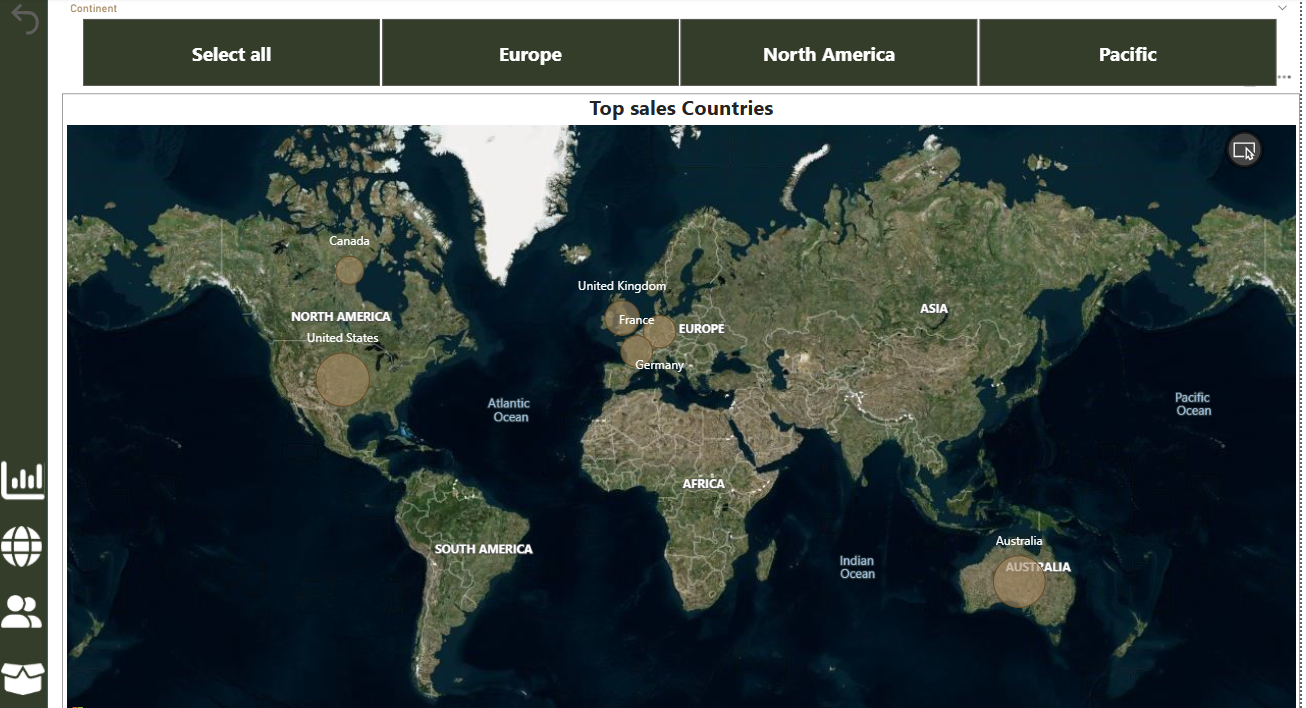

What the dashboard file says about the page in this screenshot:
{"tool":"powerbi","page":{"name":"Map ","canvas":[1280,720],"ordinal":1},"visuals":[{"type":"shape","box":[0,0,50,720],"z":0},{"type":"map","title":"Top sales Countries","fields":{"Category":["Territory Lookup.Country"],"Size":["Dax Measures.Total Revenue"]},"box":[64.3,94.3,1215.7,627.1],"z":1000},{"type":"slicer","fields":{"Values":["Territory Lookup.Continent"]},"box":[64.3,0,1215.7,94.3],"z":2000},{"type":"actionButton","box":[0,448.9,81.4,50.9],"z":3000},{"type":"actionButton","box":[0,515.4,111.9,47.9],"z":4000},{"type":"actionButton","box":[0,579.5,111.9,47.9],"z":5000},{"type":"actionButton","box":[0,643.6,111.9,50.9],"z":6000},{"type":"actionButton","box":[7.3,1.5,100.2,40.7],"z":7000}]}

Visuals, with their boxes on the page's 1280x720 design canvas (x1, y1, x2, y2). These are canvas units, not pixel positions in the 1306x708 screenshot, which may show the page scaled, cropped or inside an application window:
shape: (x1=0, y1=0, x2=50, y2=720)
"Top sales Countries" map: (x1=64, y1=94, x2=1280, y2=721)
slicer - Territory Lookup.Continent: (x1=64, y1=0, x2=1280, y2=94)
actionButton: (x1=0, y1=449, x2=81, y2=500)
actionButton: (x1=0, y1=515, x2=112, y2=563)
actionButton: (x1=0, y1=580, x2=112, y2=627)
actionButton: (x1=0, y1=644, x2=112, y2=694)
actionButton: (x1=7, y1=2, x2=108, y2=42)
